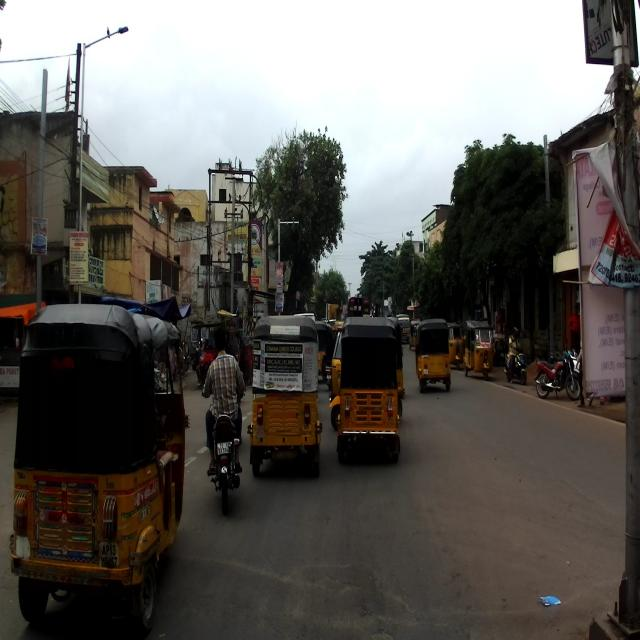autorickshaw: (10, 297, 192, 639), (246, 313, 321, 476), (336, 316, 400, 467), (329, 314, 405, 430)
motorcycle: (203, 382, 247, 515)
motorcycle_Hero: (534, 346, 580, 398)
